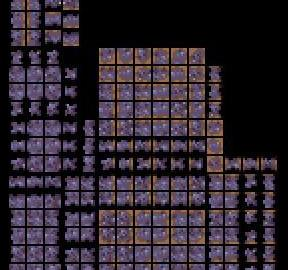ebony: (260, 244, 278, 262), (260, 208, 278, 226), (260, 172, 278, 190), (260, 190, 278, 208), (152, 64, 170, 82), (116, 64, 134, 82), (134, 64, 152, 82), (134, 82, 152, 100), (116, 82, 134, 100), (98, 100, 116, 118), (116, 100, 134, 118), (98, 118, 116, 136), (134, 118, 152, 136), (134, 136, 152, 154), (134, 190, 152, 208), (134, 208, 152, 226), (134, 244, 152, 262), (116, 244, 134, 262), (116, 208, 134, 226), (98, 244, 116, 262), (80, 208, 98, 226), (80, 190, 98, 208), (80, 118, 98, 136), (62, 244, 80, 262), (62, 208, 80, 226), (62, 190, 80, 208), (62, 136, 80, 154), (62, 118, 80, 136), (62, 100, 80, 118), (62, 82, 80, 100), (44, 244, 62, 262), (44, 226, 62, 244), (44, 208, 62, 226), (44, 118, 62, 136), (26, 64, 44, 82), (26, 82, 44, 100), (26, 118, 44, 136), (26, 136, 44, 154), (26, 244, 44, 262), (260, 226, 278, 243), (260, 155, 278, 172), (243, 244, 260, 262), (243, 208, 260, 226), (243, 190, 260, 208), (225, 190, 242, 208), (225, 208, 242, 226), (225, 244, 242, 262), (206, 244, 223, 262), (207, 226, 224, 244), (207, 208, 224, 226), (207, 190, 224, 208), (207, 118, 224, 136), (207, 100, 224, 118), (207, 82, 224, 100), (207, 64, 224, 82), (189, 244, 206, 262), (171, 244, 188, 262), (153, 244, 170, 262), (153, 226, 170, 244), (189, 208, 206, 226), (171, 208, 188, 226), (171, 190, 188, 208), (153, 190, 170, 208), (153, 208, 170, 226), (189, 190, 206, 208), (171, 154, 188, 172), (189, 118, 206, 136), (171, 118, 188, 136), (153, 118, 170, 136), (189, 100, 206, 118), (171, 100, 188, 118), (153, 100, 170, 118), (153, 82, 170, 100), (189, 82, 206, 100), (189, 64, 206, 82), (171, 82, 188, 100), (171, 64, 188, 82), (152, 46, 170, 63), (134, 46, 152, 63), (116, 46, 134, 63), (98, 46, 116, 63), (98, 65, 116, 82), (116, 118, 133, 136), (98, 137, 116, 154), (116, 137, 134, 154), (134, 155, 152, 172), (134, 173, 152, 190), (134, 226, 152, 243), (116, 226, 134, 243), (116, 190, 133, 208), (116, 155, 134, 172), (98, 155, 116, 172), (98, 173, 116, 190), (98, 190, 115, 208), (99, 208, 116, 226), (98, 226, 116, 243), (80, 244, 97, 262), (80, 226, 98, 243), (80, 173, 98, 190), (80, 155, 98, 172), (80, 137, 98, 154), (62, 173, 80, 190), (62, 155, 80, 172), (62, 64, 79, 82), (44, 190, 61, 208), (44, 172, 62, 189), (44, 136, 62, 153), (44, 100, 62, 117), (44, 82, 62, 99), (62, 29, 80, 46), (62, 11, 80, 28), (44, 11, 62, 28), (44, 28, 62, 45), (26, 29, 44, 46), (26, 46, 44, 63), (26, 100, 43, 118), (26, 155, 44, 172), (26, 173, 44, 190), (9, 136, 26, 154), (27, 208, 44, 226), (243, 155, 260, 172), (243, 173, 260, 190), (243, 226, 260, 243), (225, 155, 242, 172), (225, 173, 242, 190), (225, 226, 242, 243), (207, 173, 224, 190), (207, 154, 224, 171), (207, 137, 224, 154), (171, 226, 188, 243), (189, 226, 206, 243), (189, 173, 206, 190), (171, 173, 188, 190), (153, 173, 170, 190), (189, 155, 206, 172), (153, 155, 170, 172), (153, 137, 170, 154), (170, 137, 187, 154), (189, 137, 206, 154), (189, 46, 206, 63), (171, 46, 188, 63), (134, 101, 151, 118), (116, 173, 133, 190), (44, 64, 61, 81), (44, 47, 61, 64), (27, 10, 44, 27), (9, 11, 26, 28), (9, 29, 26, 46), (26, 191, 43, 208), (9, 155, 26, 172), (9, 208, 26, 225), (26, 226, 43, 243), (98, 83, 116, 99), (62, 227, 80, 243), (9, 118, 25, 136), (9, 190, 25, 208), (45, 155, 61, 172), (9, 47, 25, 64), (9, 64, 25, 81), (9, 83, 25, 100), (9, 100, 25, 117), (9, 226, 25, 243), (9, 244, 25, 261), (9, 173, 25, 189), (9, 261, 26, 270), (62, 0, 79, 9), (44, 0, 61, 9), (26, 0, 43, 9), (260, 262, 278, 270), (152, 262, 170, 270), (62, 262, 80, 270), (9, 0, 25, 9), (206, 262, 223, 270), (134, 262, 151, 270), (80, 262, 97, 270), (26, 262, 43, 270), (242, 263, 259, 270), (224, 263, 241, 270), (188, 263, 205, 270), (170, 263, 187, 270), (116, 263, 133, 270), (98, 263, 115, 270), (44, 263, 61, 270)
